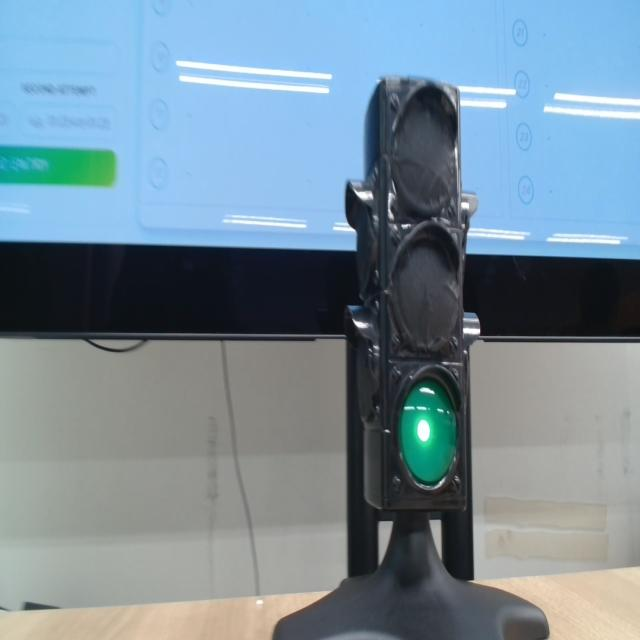green_light: (400, 379, 456, 485)
